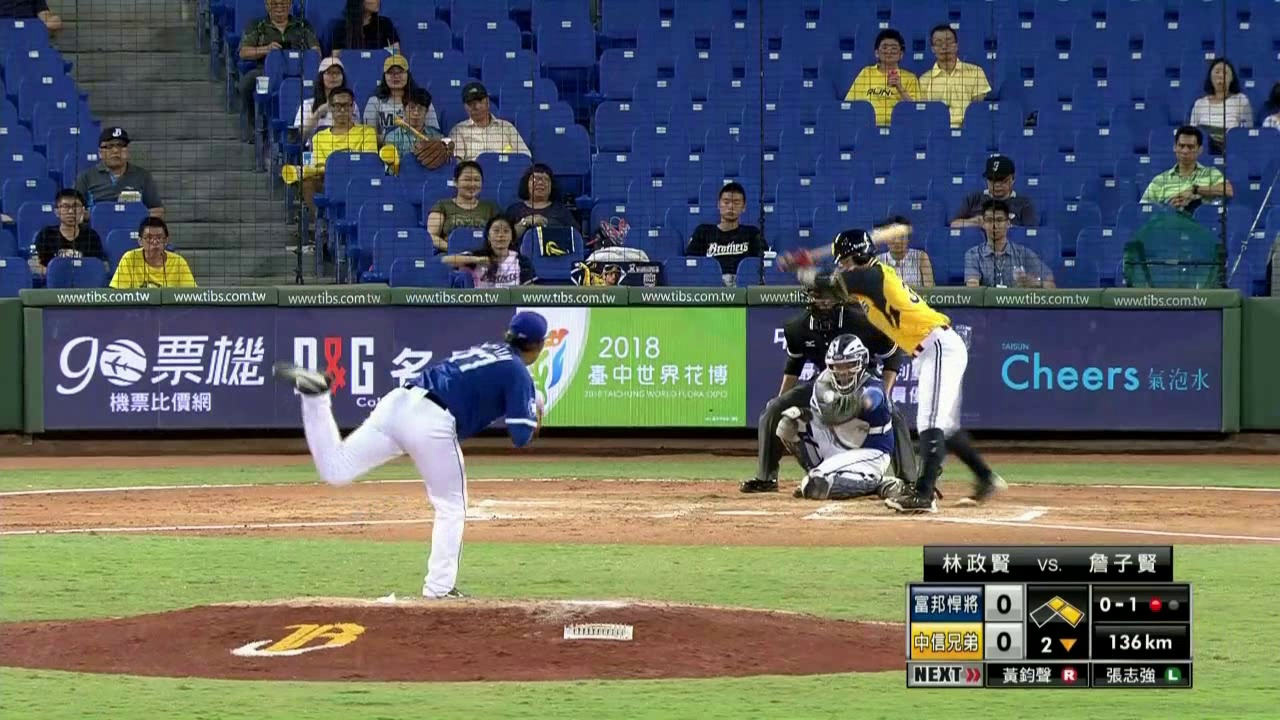base: (1029, 588, 1086, 628)
bat: (801, 220, 915, 259)
out: (1141, 588, 1186, 619)
score1: (986, 588, 1020, 620)
score2: (986, 628, 1023, 655)
session: (1028, 626, 1088, 658)
speed: (1093, 628, 1182, 658)
strikeball: (1093, 587, 1142, 625)
